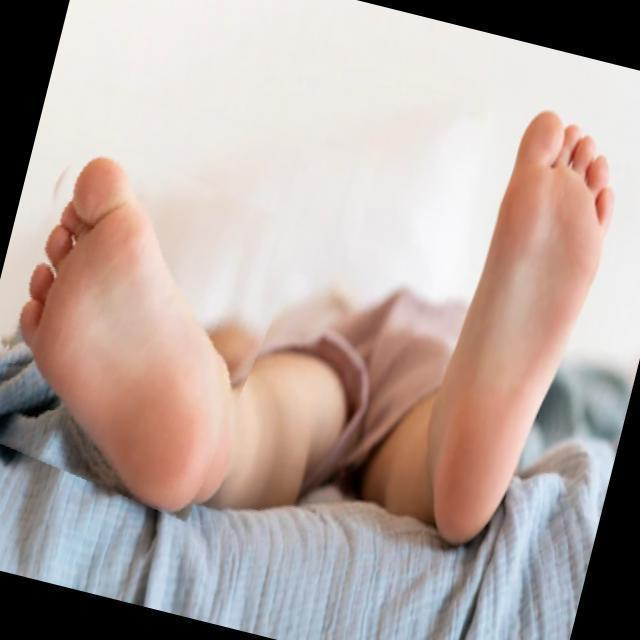No_Shoes: (398, 115, 620, 563), (28, 129, 240, 508)
